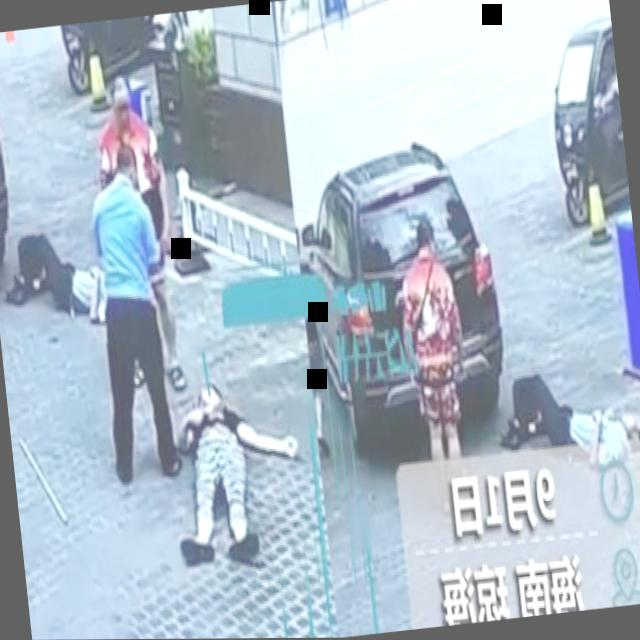Fall-Detected: (0, 209, 116, 336)
